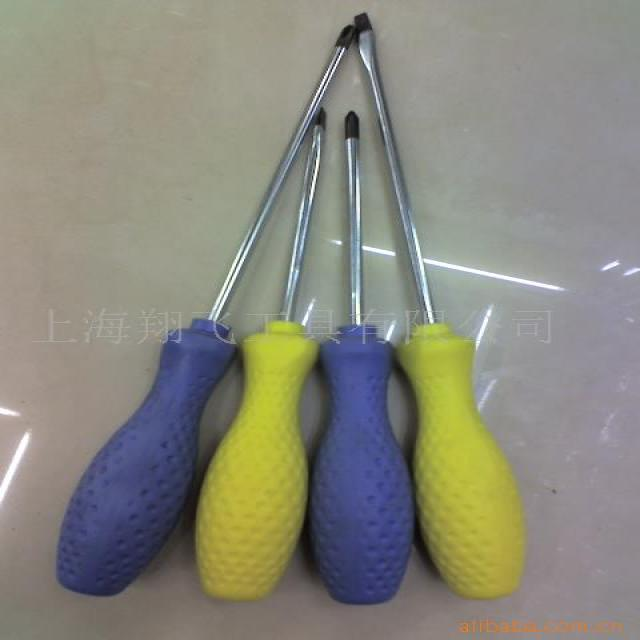screw driver: (333, 0, 556, 640)
